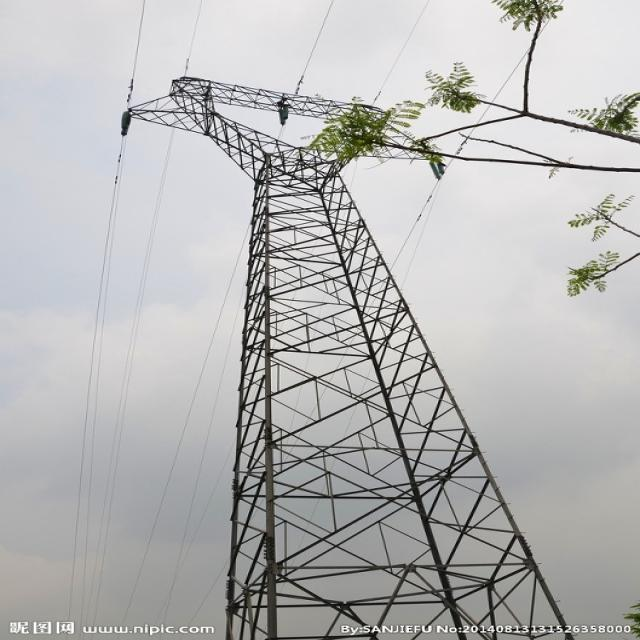non-critical vegetation: (97, 58, 600, 616)
